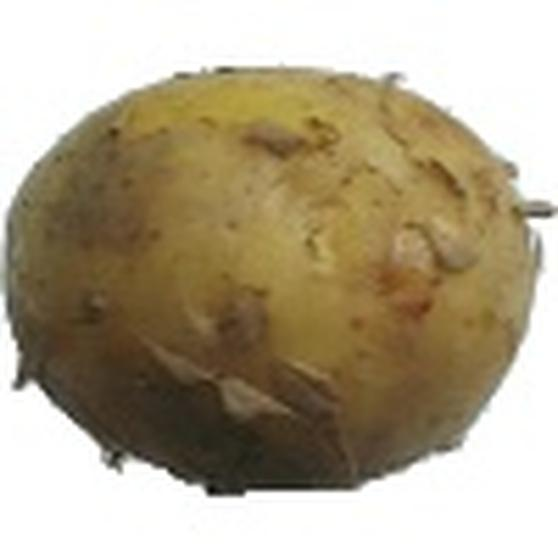potato: (11, 66, 538, 490)
